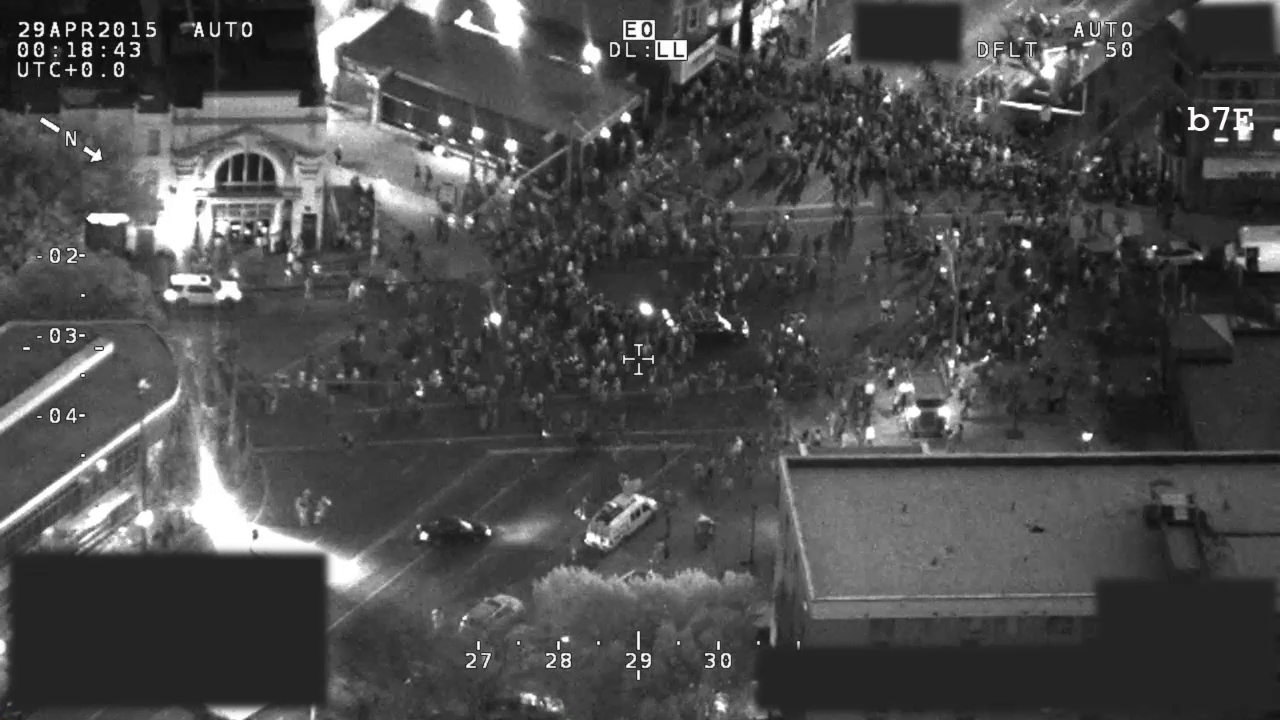vehicle: (1010, 46, 1104, 140), (580, 486, 661, 554), (658, 303, 761, 354), (1004, 6, 1097, 60), (455, 587, 529, 649), (158, 268, 249, 315), (472, 685, 569, 720), (409, 514, 498, 552), (1136, 234, 1215, 271)
